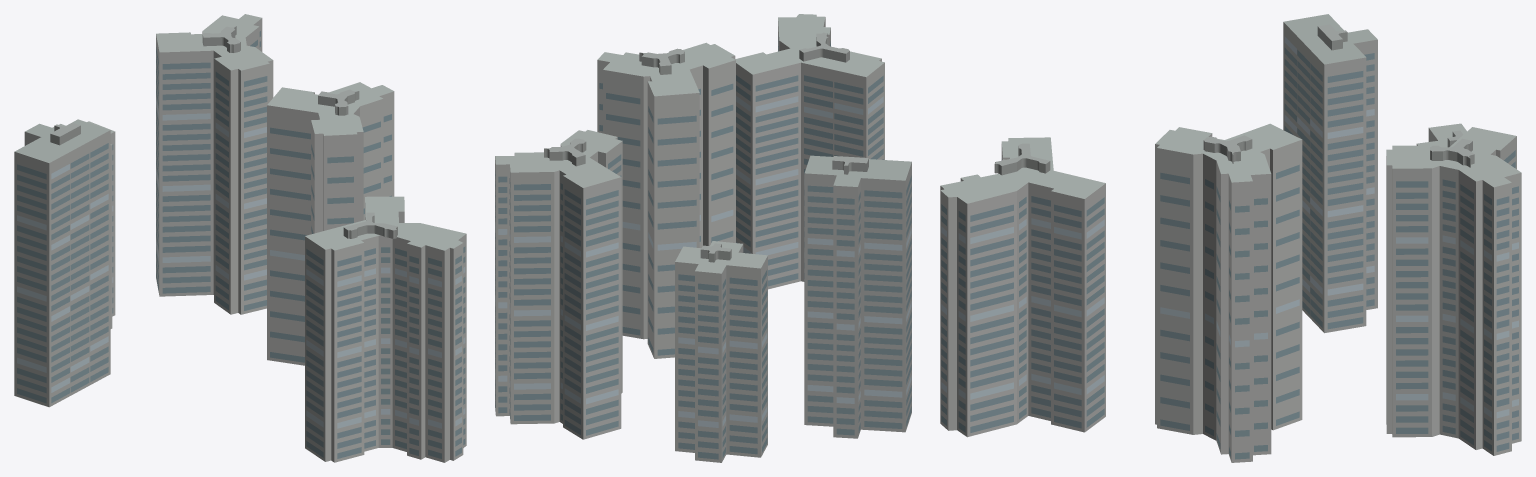
Rendered from apt-a13078301.glb.
The picture shows the model from 3 angles, left to right: view 1: azimuth 30°, elevation 25°; view 2: azimuth 150°, elevation 25°; view 3: azimuth 270°, elevation 25°; orthographic projection. The views are drawn at different scales.
Visible parts, largest first — view 1: apt-a13078301; view 2: apt-a13078301; view 3: apt-a13078301.
Boxes of the visible parts, left/top/right/bottom form: apt-a13078301: left=14, top=14, right=466, bottom=462; apt-a13078301: left=495, top=14, right=911, bottom=462; apt-a13078301: left=940, top=14, right=1521, bottom=462.
Bounding box in the file's own units: 98.77 × 74 × 135.
